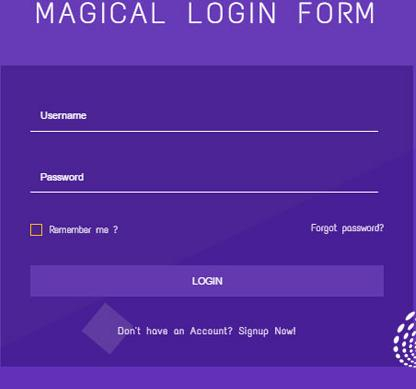button: (28, 264, 387, 300)
checkbox: (29, 221, 48, 238)
checkbox_with_label: (25, 219, 118, 240)
field_line: (29, 106, 380, 135), (28, 169, 378, 196)
